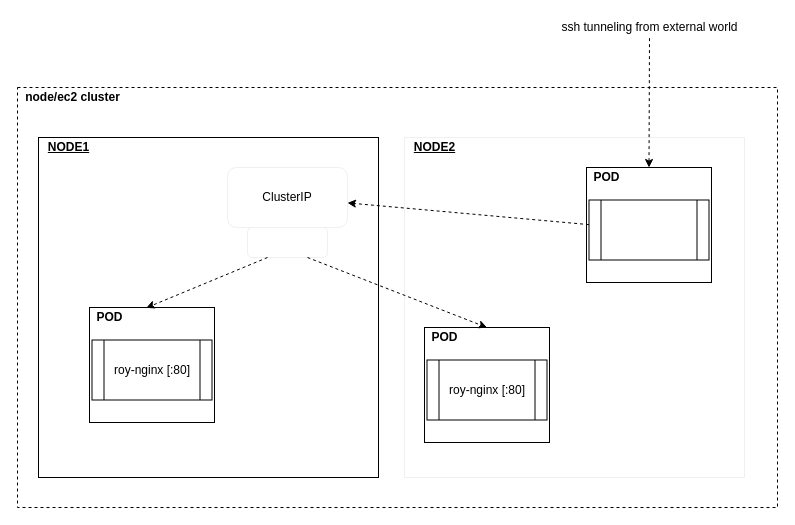
Image size: 795x525. Some labels were removed from this diagram. The shapes that lost their labels are listed below. From the top down, each one's box as (x1, y1, x2, y2) in pixels, then its label:
(246, 226, 328, 258): target :80
(588, 199, 709, 260): busy-box
